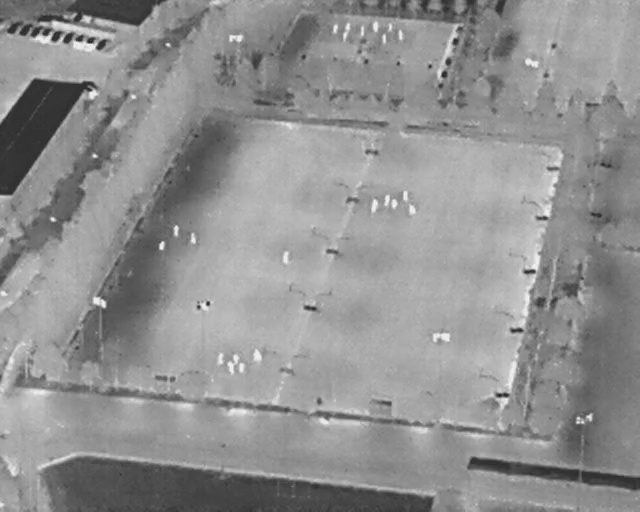Car: (5, 16, 23, 37), (94, 34, 111, 53), (18, 20, 34, 37), (49, 26, 63, 44), (83, 32, 98, 48), (62, 28, 75, 45), (29, 23, 43, 37), (40, 24, 53, 39), (73, 32, 85, 43)
Person: (370, 198, 379, 213), (253, 348, 262, 363), (282, 250, 291, 264), (217, 352, 225, 367), (227, 361, 235, 375), (408, 204, 416, 217), (391, 198, 398, 211), (402, 189, 409, 202), (232, 353, 240, 364), (372, 21, 379, 33), (173, 225, 180, 237), (190, 232, 197, 244), (238, 362, 245, 374), (384, 194, 390, 207), (332, 23, 339, 34), (158, 240, 165, 251), (398, 29, 404, 41), (342, 31, 348, 42), (382, 32, 387, 45), (345, 22, 351, 32), (360, 25, 365, 37), (387, 22, 393, 32)
